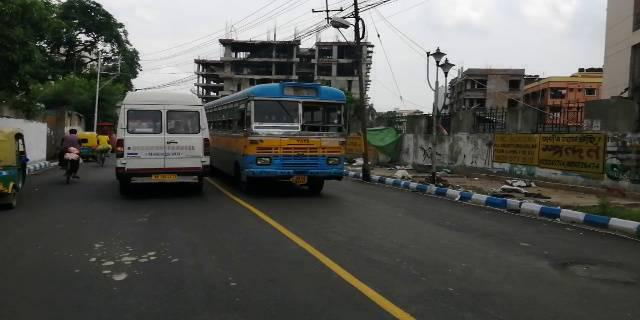Bus: (230, 78, 356, 200)
Van: (107, 82, 217, 201)
